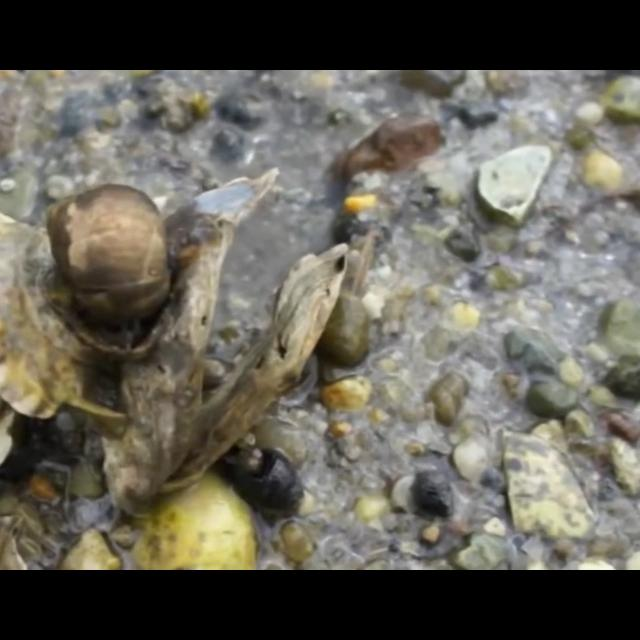Oyster-Closed: (0, 215, 106, 425)
Oyster-Open: (96, 169, 352, 525)
